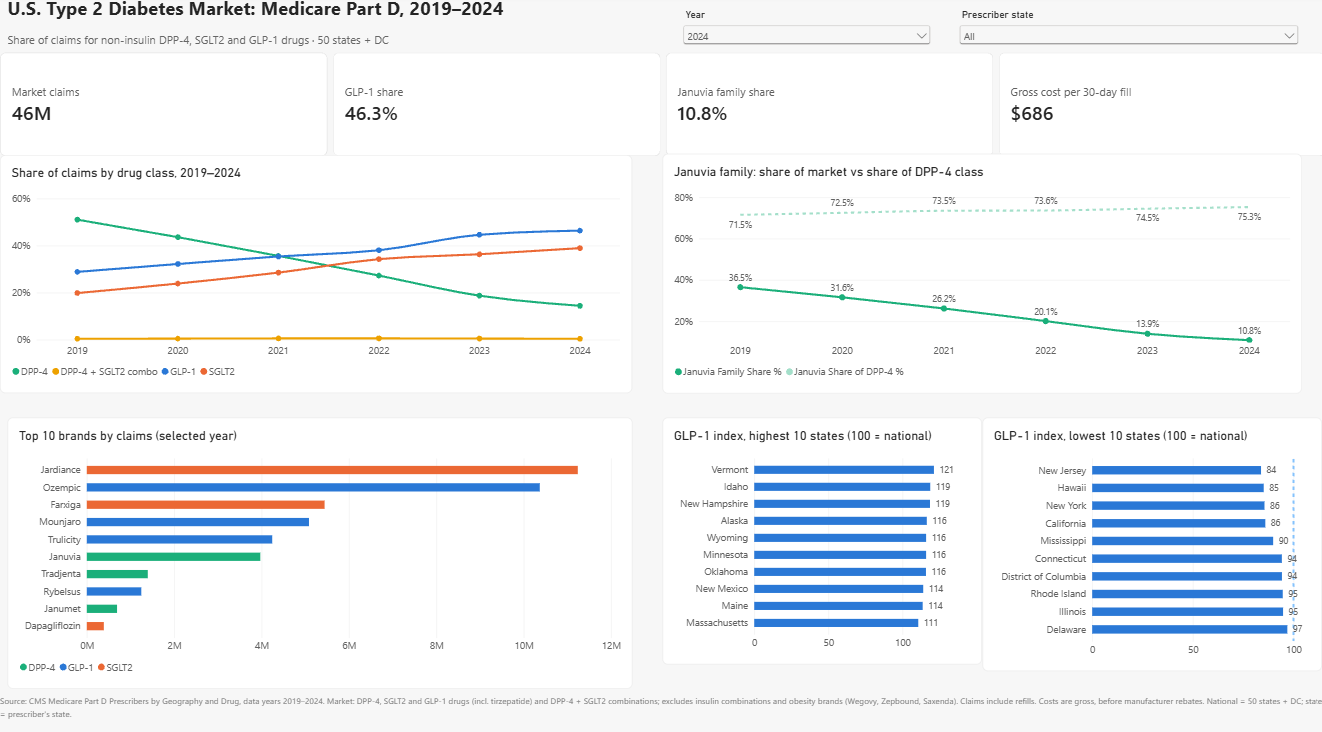

The dashboard page shown, as its layout file describes it:
{"tool":"powerbi","page":{"name":"Page 1","canvas":[1920,1080],"ordinal":0},"visuals":[{"type":"textbox","box":[10,0,906,108],"z":0},{"type":"slicer","fields":{"Values":["fact_state_product_year.data_year"]},"box":[985,20,367.5,87.5],"z":1000},{"type":"slicer","fields":{"Values":["fact_state_product_year.state_name"]},"box":[1385,20,500,87.5],"z":2000},{"type":"textbox","box":[0,1012.5,1920,67.5],"z":3000},{"type":"cardVisual","fields":{"Data":["fact_state_product_year.Total Claims","fact_state_product_year.GLP-1 Share %","fact_state_product_year.Januvia Family Share %","fact_state_product_year.Gross Cost per 30-Day Fill"]},"box":[0,82.5,1920,150],"z":4000},{"type":"lineChart","title":"Share of claims by drug class, 2019–2024","fields":{"Category":["fact_state_product_year.data_year"],"Series":["dim_product.drug_class"],"Y":["fact_state_product_year.Market Share %"]},"box":[0,232.5,915,345],"z":5000},{"type":"lineChart","title":"Januvia family: share of market vs share of DPP-4 class","fields":{"Category":["fact_state_product_year.data_year"],"Y":["fact_state_product_year.Januvia Family Share %","fact_state_product_year.Januvia Share of DPP-4 %"]},"box":[960,230,925.7,347.1],"z":6000},{"type":"barChart","title":"Top 10 brands by claims (selected year)","fields":{"Category":["dim_product.brand_family"],"Series":["dim_product.drug_class"],"Y":["fact_state_product_year.Total Claims"]},"box":[10,612.5,905,392.5],"z":7000},{"type":"clusteredBarChart","title":"GLP-1 index, highest 10 states (100 = national)","fields":{"Category":["fact_state_product_year.state_name"],"Y":["fact_state_product_year.GLP-1 Index"]},"box":[960,612.5,462.5,357.5],"z":8000},{"type":"clusteredBarChart","title":"GLP-1 index, lowest 10 states (100 = national)","fields":{"Category":["fact_state_product_year.state_name"],"Y":["fact_state_product_year.GLP-1 Index"]},"box":[1422.5,612.5,492.5,367.5],"z":9000}]}

Visuals, with their boxes in screenshot pixels (x1, y1, x2, y2), scaled from the page's 1920x1080 canvas onto the 1322x732 screenshot:
textbox: (left=7, top=0, right=631, bottom=73)
slicer - fact_state_product_year.data_year: (left=678, top=14, right=931, bottom=73)
slicer - fact_state_product_year.state_name: (left=954, top=14, right=1298, bottom=73)
textbox: (left=0, top=686, right=1321, bottom=731)
cardVisual - fact_state_product_year.Total Claims x fact_state_product_year.GLP-1 Share %: (left=0, top=56, right=1321, bottom=158)
"Share of claims by drug class, 2019–2024" lineChart: (left=0, top=158, right=630, bottom=391)
"Januvia family: share of market vs share of DPP-4 class" lineChart: (left=661, top=156, right=1298, bottom=391)
"Top 10 brands by claims (selected year)" barChart: (left=7, top=415, right=630, bottom=681)
"GLP-1 index, highest 10 states (100 = national)" clusteredBarChart: (left=661, top=415, right=979, bottom=657)
"GLP-1 index, lowest 10 states (100 = national)" clusteredBarChart: (left=979, top=415, right=1319, bottom=664)
